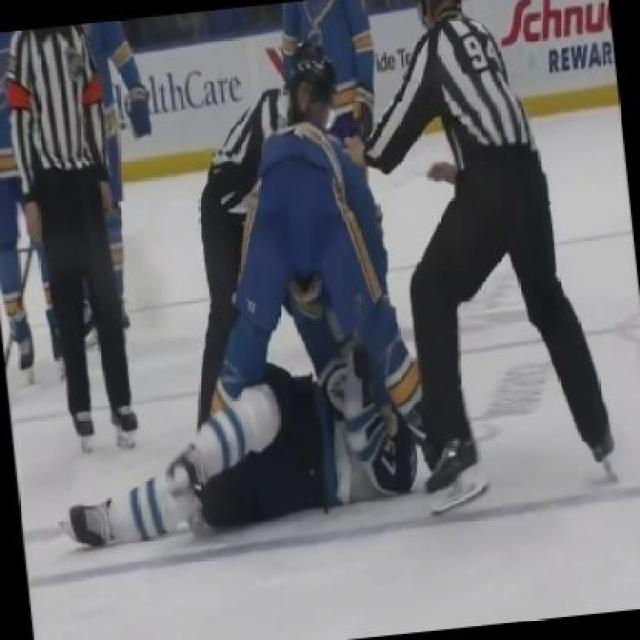fight: (60, 104, 432, 553)
non-fight: (338, 0, 622, 516), (7, 25, 142, 454)
